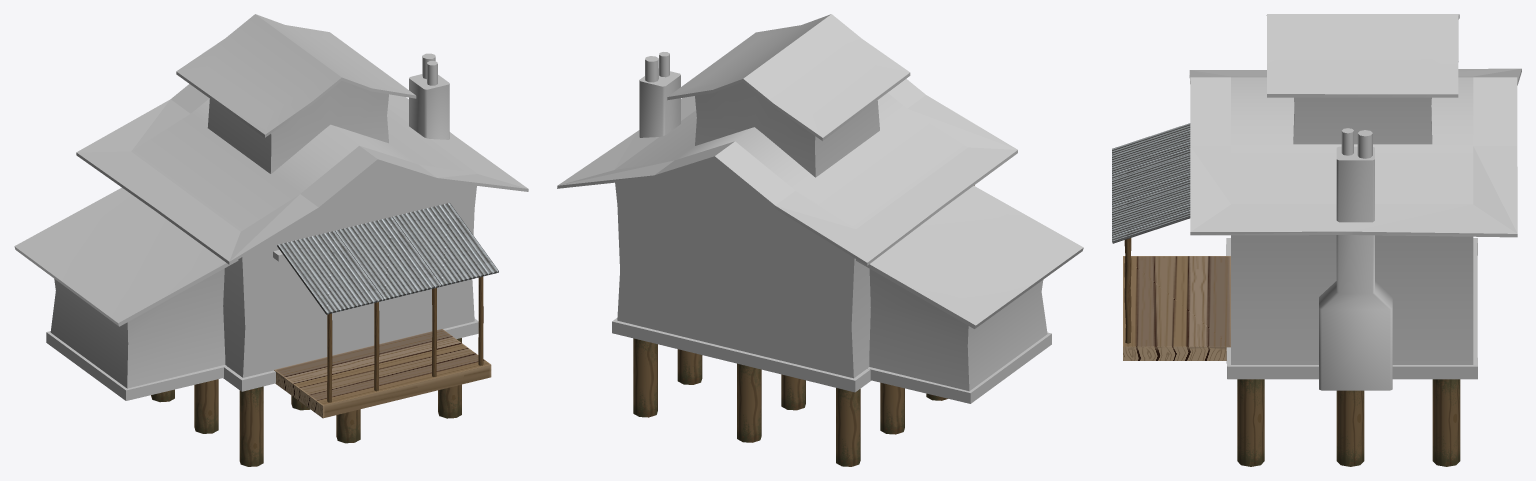
File: JungleShack.FBX
3 views of the same model, side by side, from view 1: azimuth 30°, elevation 25°; view 2: azimuth 150°, elevation 25°; view 3: azimuth 270°, elevation 25° (orthographic). The views are drawn at different scales.
Parts seen in each view (by area): view 1: MainHouse, StorageHouseBlock, SecondFloorHouseBlock, PorchFloor, RoofPlateMetal02, RoofPlateMetal, RoofPlateMetal01, ChimneyHouseBlock, BigLog02, BigLog03, BigLog01, BigLog (+1 smaller); view 2: MainHouse, StorageHouseBlock, SecondFloorHouseBlock, ChimneyHouseBlock, BigLog06, BigLog07, BigLog08, BigLog03, BigLog04, BigLog05; view 3: MainHouse, SecondFloorHouseBlock, ChimneyHouseBlock, PorchFloor, RoofPlateMetal, RoofPlateMetal02, BigLog07, RoofPlateMetal01, BigLog, BigLog04, PorchPole.
Boxes of the visible parts, x1,y1,x2,y2 form: MainHouse: (76, 84, 528, 391); StorageHouseBlock: (14, 187, 238, 400); SecondFloorHouseBlock: (176, 14, 416, 173); PorchFloor: (274, 329, 491, 418); RoofPlateMetal02: (277, 231, 383, 314); RoofPlateMetal: (392, 203, 498, 286); RoofPlateMetal01: (335, 217, 441, 300); ChimneyHouseBlock: (409, 53, 449, 139); BigLog02: (239, 386, 263, 466); BigLog03: (194, 379, 218, 433); BigLog01: (336, 409, 360, 443); BigLog: (438, 338, 461, 418); MainHouse: (557, 79, 1017, 392); StorageHouseBlock: (856, 186, 1083, 403); SecondFloorHouseBlock: (667, 14, 910, 177); ChimneyHouseBlock: (639, 52, 680, 137); BigLog06: (836, 388, 860, 466); BigLog07: (633, 338, 657, 417); BigLog08: (737, 363, 761, 442); BigLog03: (880, 382, 904, 434); BigLog04: (677, 349, 702, 384); BigLog05: (781, 374, 805, 410); MainHouse: (1189, 68, 1521, 379); SecondFloorHouseBlock: (1266, 14, 1459, 144); ChimneyHouseBlock: (1319, 128, 1392, 390); PorchFloor: (1123, 256, 1230, 360); RoofPlateMetal: (1112, 185, 1190, 243); RoofPlateMetal02: (1112, 123, 1190, 179); BigLog07: (1432, 379, 1460, 466); RoofPlateMetal01: (1112, 154, 1190, 210); BigLog: (1237, 379, 1264, 466); BigLog04: (1336, 390, 1364, 466); PorchPole: (1124, 238, 1131, 343).
Size of the model in its own units: 811 by 705 by 666.
